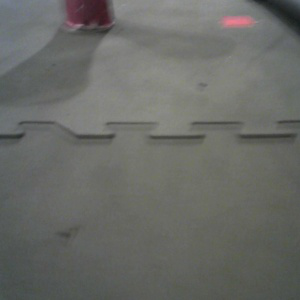Middle: (63, 1, 115, 29)
